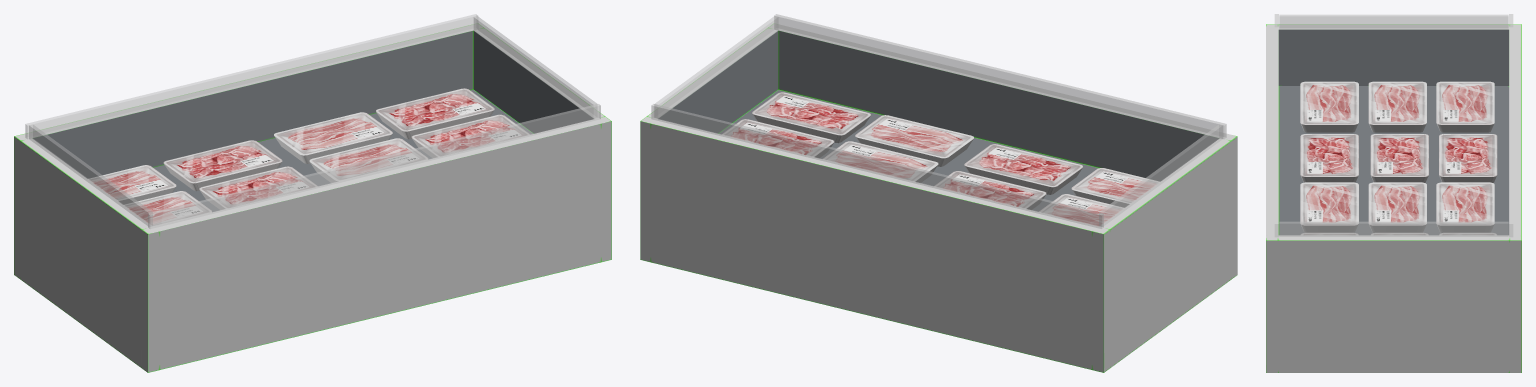
Rendered from shelf_meat.fbx.
3 renders of one model, left to right at view 1: azimuth 30°, elevation 25°; view 2: azimuth 150°, elevation 25°; view 3: azimuth 270°, elevation 25°, orthographic. The views are drawn at different scales.
Parts seen in each view (by area): view 1: shelf_meat; view 2: shelf_meat; view 3: shelf_meat.
Part boxes in pixels (bbox=[...]): shelf_meat: bbox=[14, 14, 611, 372]; shelf_meat: bbox=[640, 14, 1237, 372]; shelf_meat: bbox=[1266, 14, 1521, 372].
Bounding box in the file's own units: 350 × 110 × 175.
4 materials, 3 textured.
